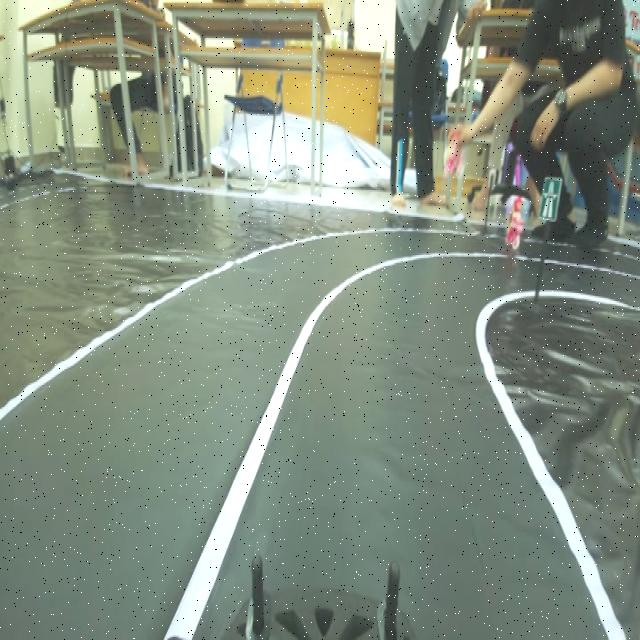highway_entry: (540, 170, 563, 228)
